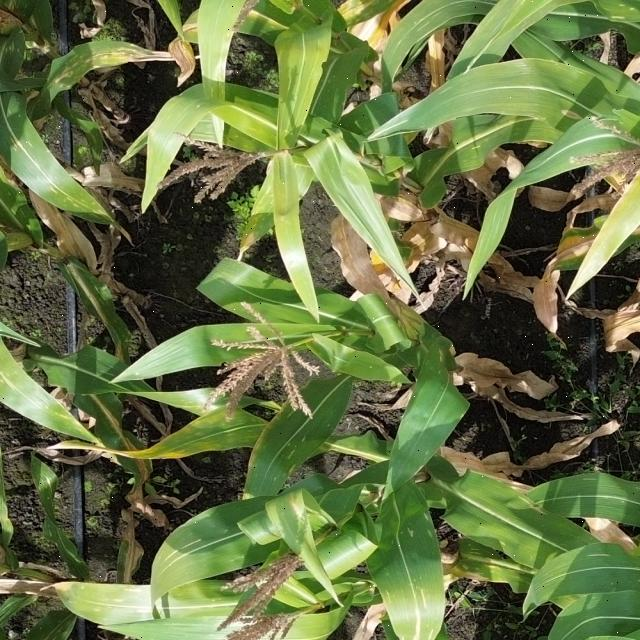gray-leaf-spot: (3, 122, 153, 248), (353, 510, 468, 640), (392, 107, 540, 208), (269, 386, 339, 499), (376, 0, 486, 66), (23, 451, 90, 552), (238, 169, 295, 248)
southern-leaf-blight: (0, 40, 169, 118), (109, 404, 280, 468)
